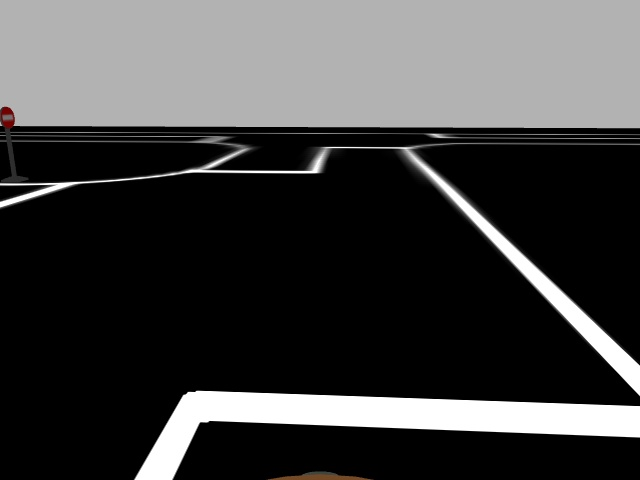prohibited: (1, 105, 14, 131)
